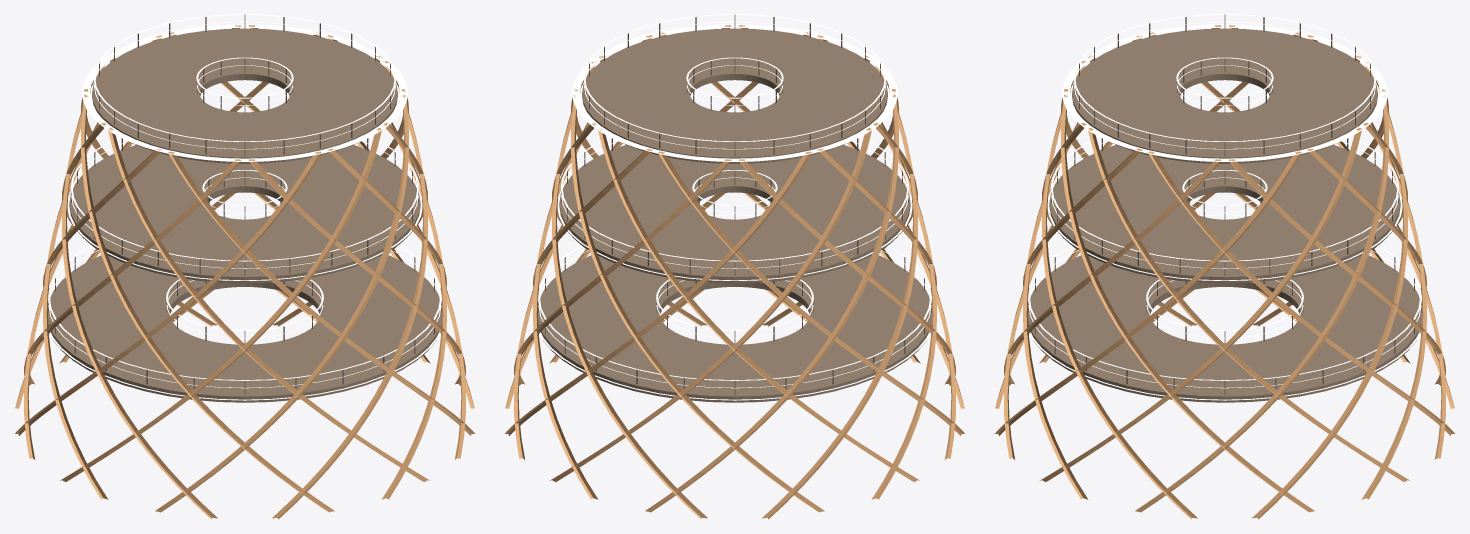
Rendered from tower.glb.
3 renders of one model, left to right at view 1: azimuth 30°, elevation 25°; view 2: azimuth 150°, elevation 25°; view 3: azimuth 270°, elevation 25°, orthographic.
Visible parts, largest first — view 1: floors, ribs, rings, posts; view 2: floors, ribs, rings, posts; view 3: floors, ribs, rings, posts.
Boxes of the visible parts, <box> form: floors: <box>48,28,441,402</box>; ribs: <box>15,25,474,519</box>; rings: <box>48,14,441,400</box>; posts: <box>48,14,441,394</box>; floors: <box>538,28,931,402</box>; ribs: <box>505,25,964,519</box>; rings: <box>538,14,931,400</box>; posts: <box>538,15,931,394</box>; floors: <box>1028,28,1421,402</box>; ribs: <box>995,25,1454,519</box>; rings: <box>1028,14,1421,400</box>; posts: <box>1028,14,1421,394</box>.
Size of what is drawn, in the model's own units: 30.45 by 25.1 by 30.45.
